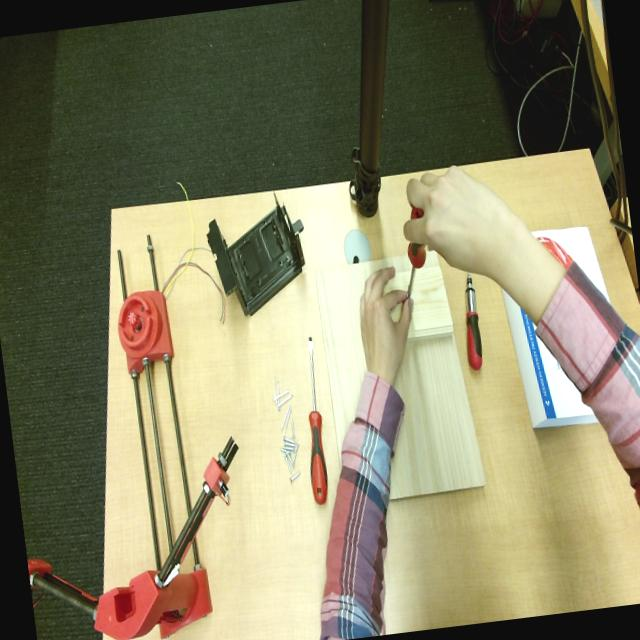screwdriver: (308, 338, 327, 504), (465, 273, 482, 370), (407, 242, 426, 298), (410, 207, 423, 219)
